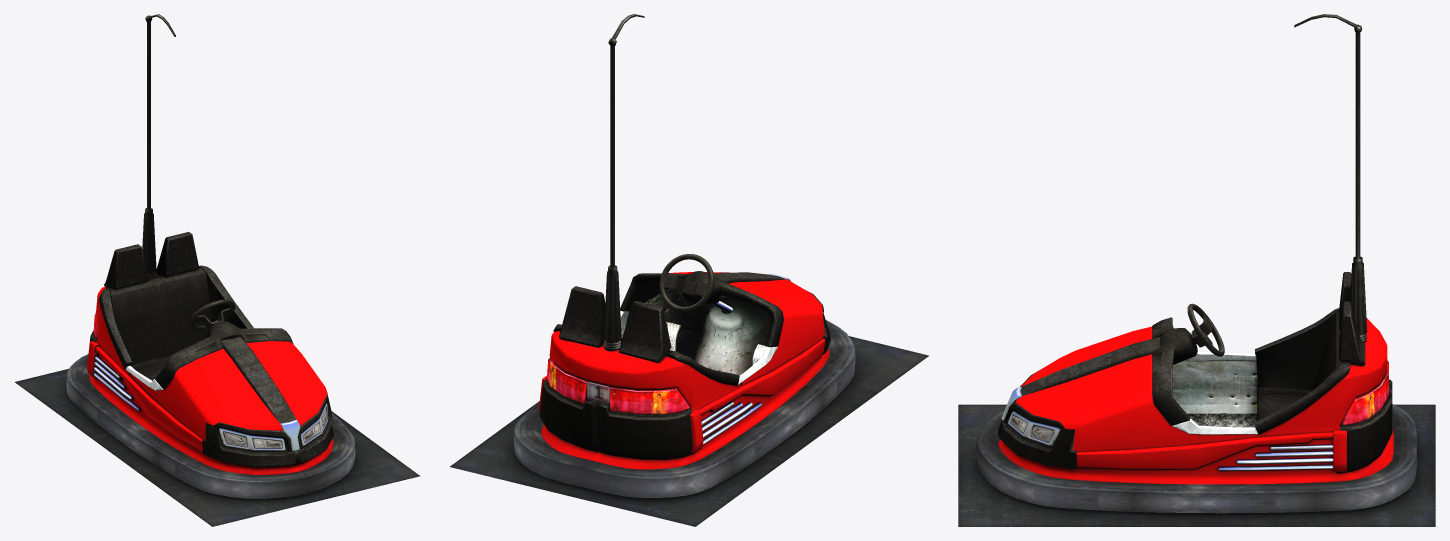
The model's file is v_bumper.glb.
3 renders of one model, left to right at view 1: azimuth 30°, elevation 25°; view 2: azimuth 150°, elevation 25°; view 3: azimuth 270°, elevation 25°, orthographic. The views are drawn at different scales.
Visible parts, largest first — view 1: Object_8, Object_7, Object_2, Object_3, Object_5, Object_4; view 2: Object_7, Object_8, Object_3, Object_2, Object_4, Object_5; view 3: Object_7, Object_8, Object_3, Object_2, Object_4, Object_5.
Boxes of the visible parts, bbox=[...] form: Object_8: bbox=[87, 232, 333, 467]; Object_7: bbox=[87, 274, 333, 474]; Object_2: bbox=[15, 369, 420, 526]; Object_3: bbox=[66, 354, 355, 498]; Object_5: bbox=[142, 14, 328, 451]; Object_4: bbox=[93, 355, 219, 428]; Object_7: bbox=[539, 272, 829, 469]; Object_8: bbox=[539, 271, 830, 459]; Object_3: bbox=[514, 320, 855, 497]; Object_2: bbox=[450, 336, 928, 526]; Object_4: bbox=[620, 286, 777, 444]; Object_5: bbox=[587, 14, 790, 403]; Object_7: bbox=[998, 318, 1393, 484]; Object_8: bbox=[998, 272, 1392, 473]; Object_3: bbox=[976, 404, 1416, 513]; Object_2: bbox=[958, 404, 1435, 526]; Object_4: bbox=[1028, 339, 1333, 471]; Object_5: bbox=[1001, 14, 1386, 447].
Bounding box in the file's own units: 9.56 × 16.4 × 15.76.
6 materials, 6 textured.
